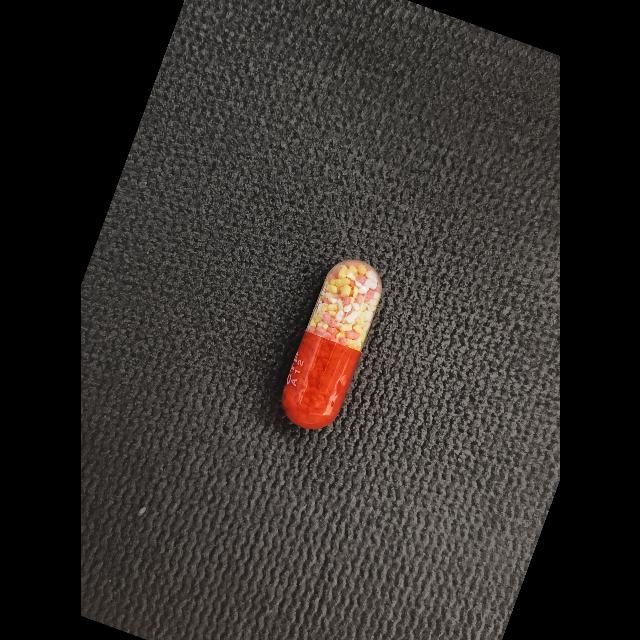Intact Capsule: (281, 260, 382, 429)
